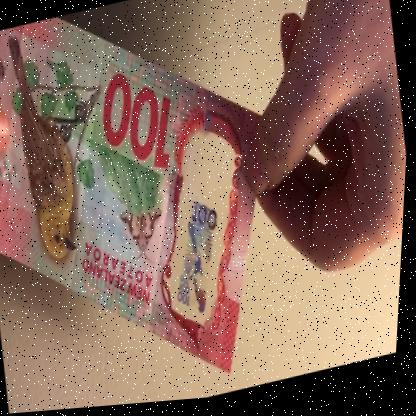100B: (163, 192, 241, 325)
